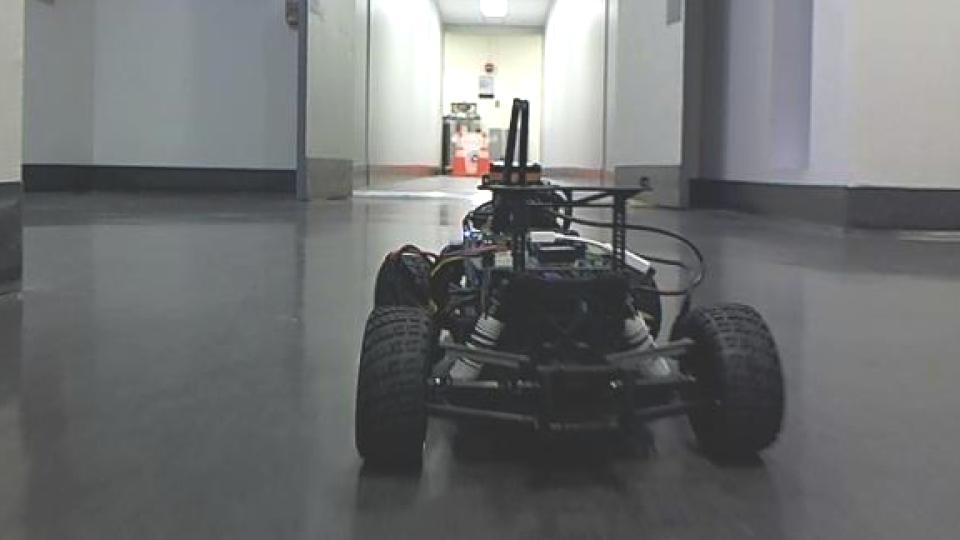car: (350, 95, 790, 477)
